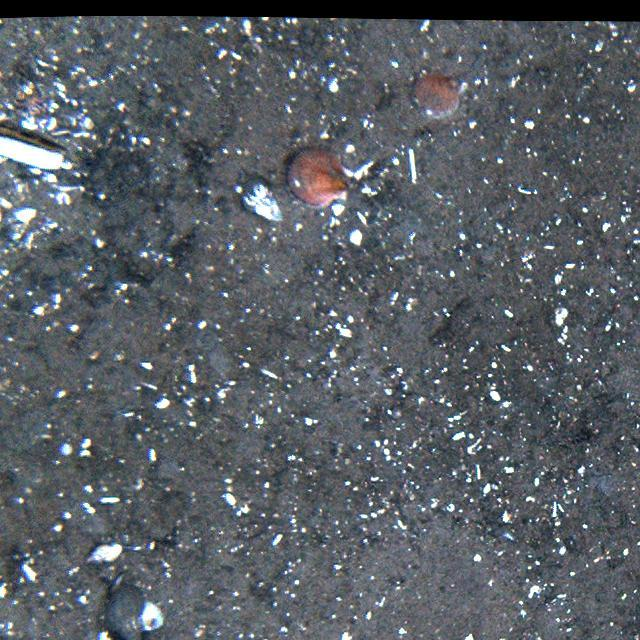scallop: (288, 143, 352, 205), (404, 70, 465, 122)
